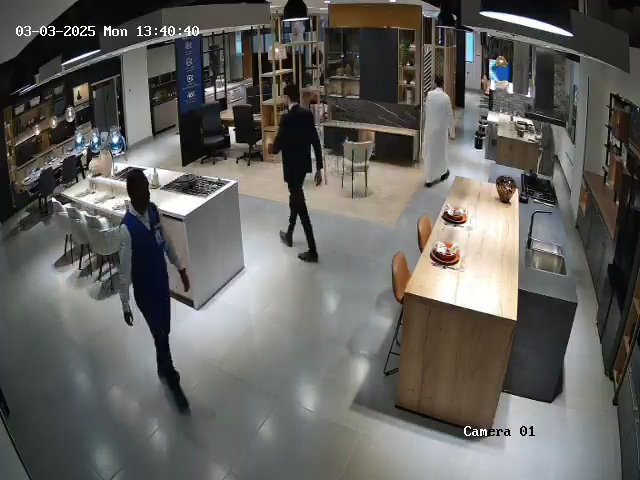employee: (117, 170, 191, 413), (270, 92, 324, 263)
male: (423, 76, 456, 188)
